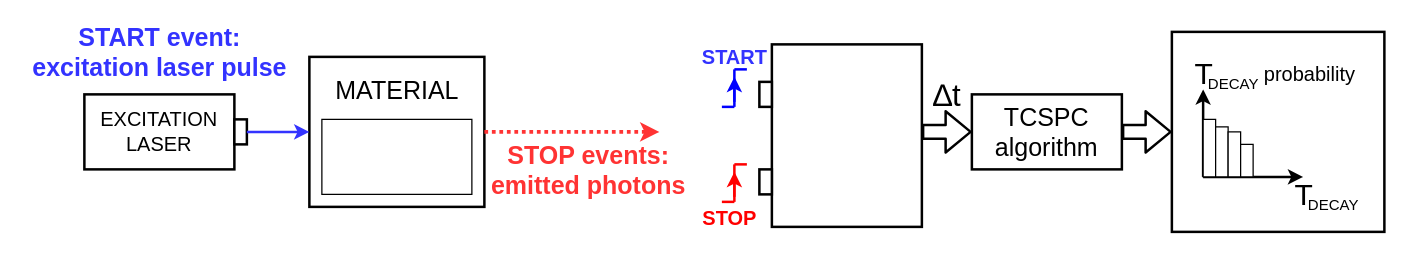
Image size: 1406x254. Some labels were removed from this diagram. The shapes that lost their labels are listed below. From the top down, each one's centre as x and y in pixels, then its label:
At point 846,135: "TIM".
At point 396,156: "fluorescence process".
